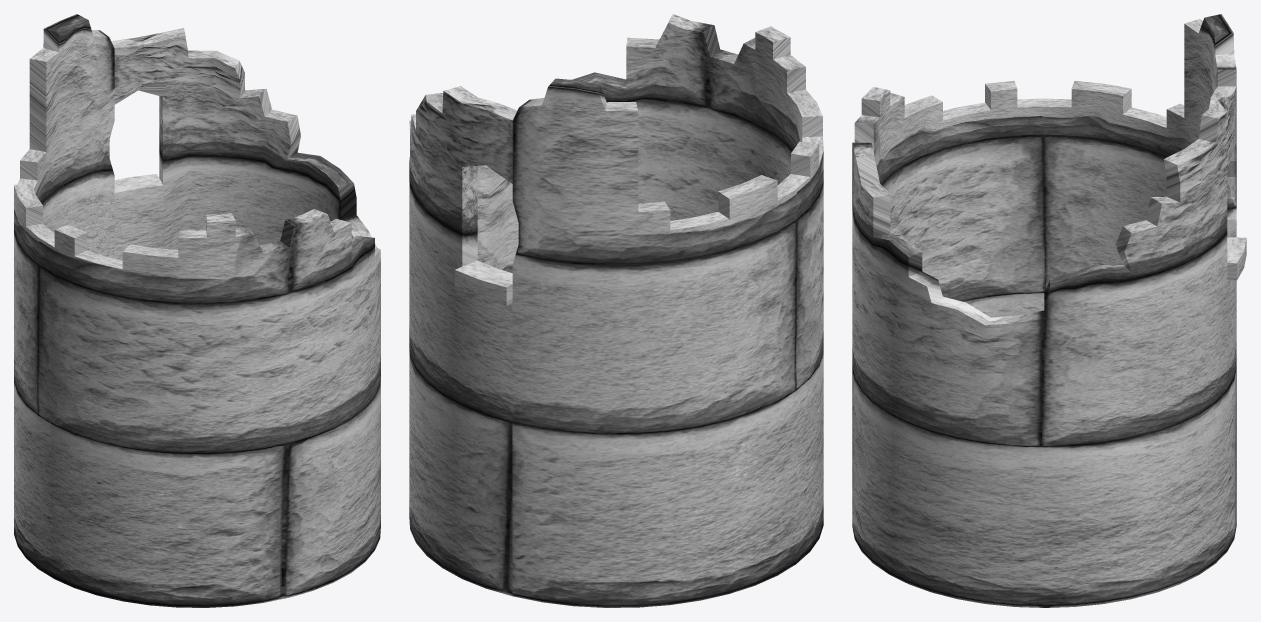
The model's file is TowerDestroyed.fbx.
The picture shows the model from 3 angles, left to right: view 1: azimuth 30°, elevation 25°; view 2: azimuth 150°, elevation 25°; view 3: azimuth 270°, elevation 25°; orthographic projection. The views are drawn at different scales.
Visible parts, largest first — view 1: TowerDestroyed; view 2: TowerDestroyed; view 3: TowerDestroyed.
Boxes of the visible parts, x1=… form: TowerDestroyed: x1=14, y1=14, x2=380, y2=607; TowerDestroyed: x1=409, y1=14, x2=823, y2=607; TowerDestroyed: x1=852, y1=14, x2=1246, y2=607.
Size of the model in its own units: 34.92 by 48.02 by 35.83.
1 material, 1 textured.
